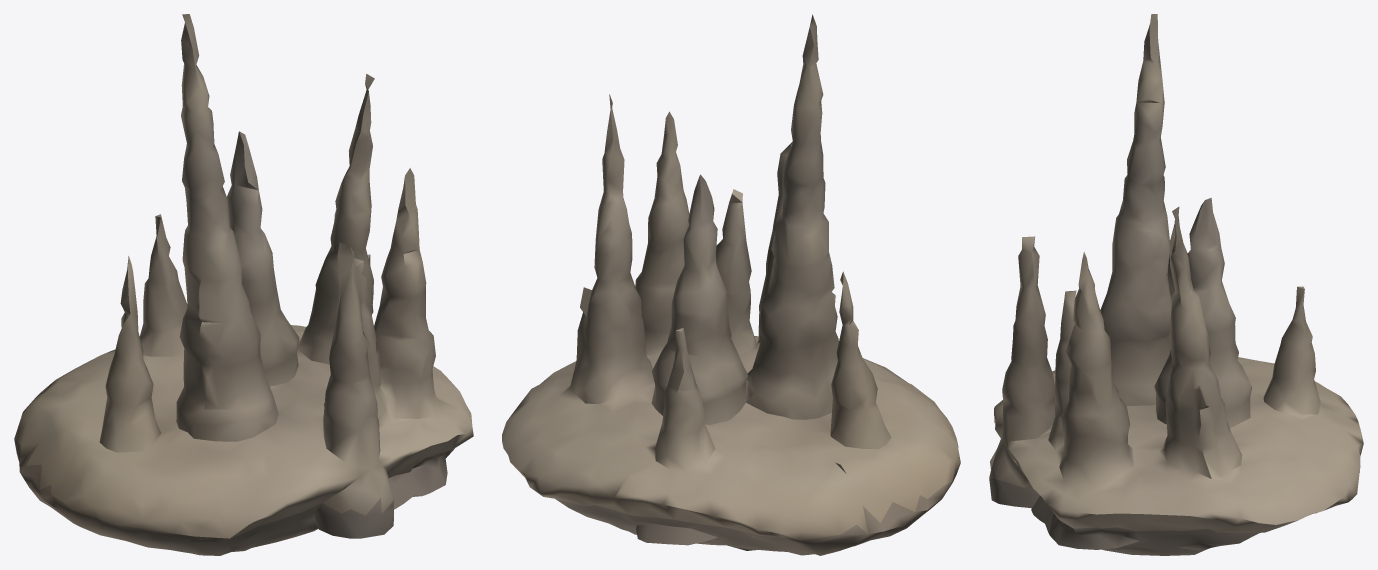
File: stalagmite_cluster_b.7c44c12b.glb
3 views of the same model, side by side, from view 1: azimuth 30°, elevation 25°; view 2: azimuth 150°, elevation 25°; view 3: azimuth 270°, elevation 25° (orthographic). The views are drawn at different scales.
Parts seen in each view (by area): view 1: stalagmite_cluster_b; view 2: stalagmite_cluster_b; view 3: stalagmite_cluster_b.
Boxes of the visible parts, x1,y1,x2,y2 form: stalagmite_cluster_b: (14, 14, 473, 555); stalagmite_cluster_b: (502, 14, 960, 555); stalagmite_cluster_b: (989, 14, 1363, 555).
Size of the model in its own units: 1.06 by 1.33 by 0.966.
